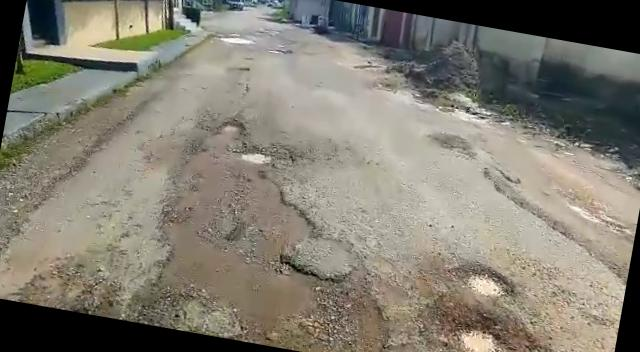pothole: (419, 289, 544, 352), (444, 258, 518, 306), (236, 148, 276, 168), (218, 118, 249, 138)
